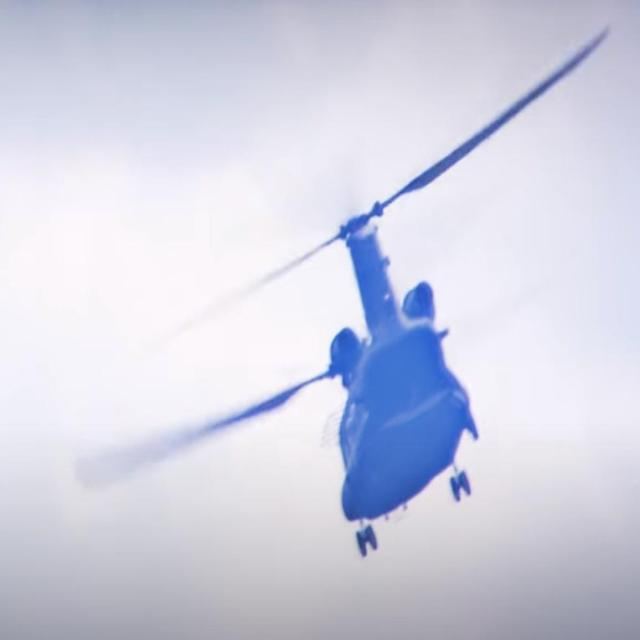Helicopter: (198, 92, 536, 561)
